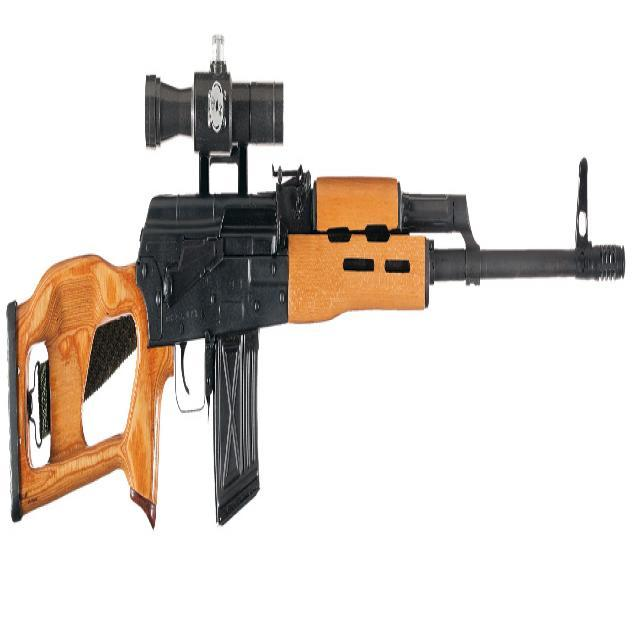weapon: (5, 33, 627, 529)
